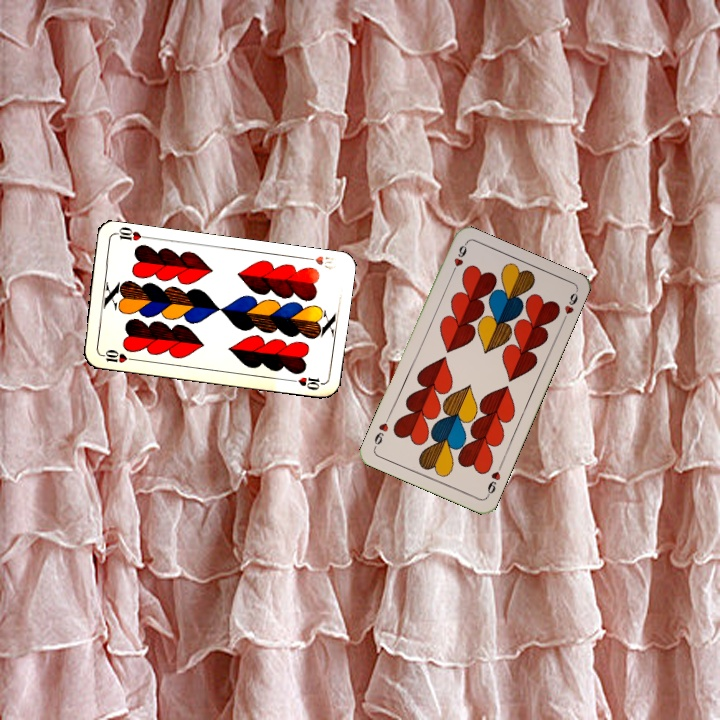H10: (96, 345, 137, 366), (299, 252, 338, 272)
H9: (447, 240, 469, 279), (483, 461, 505, 499)
